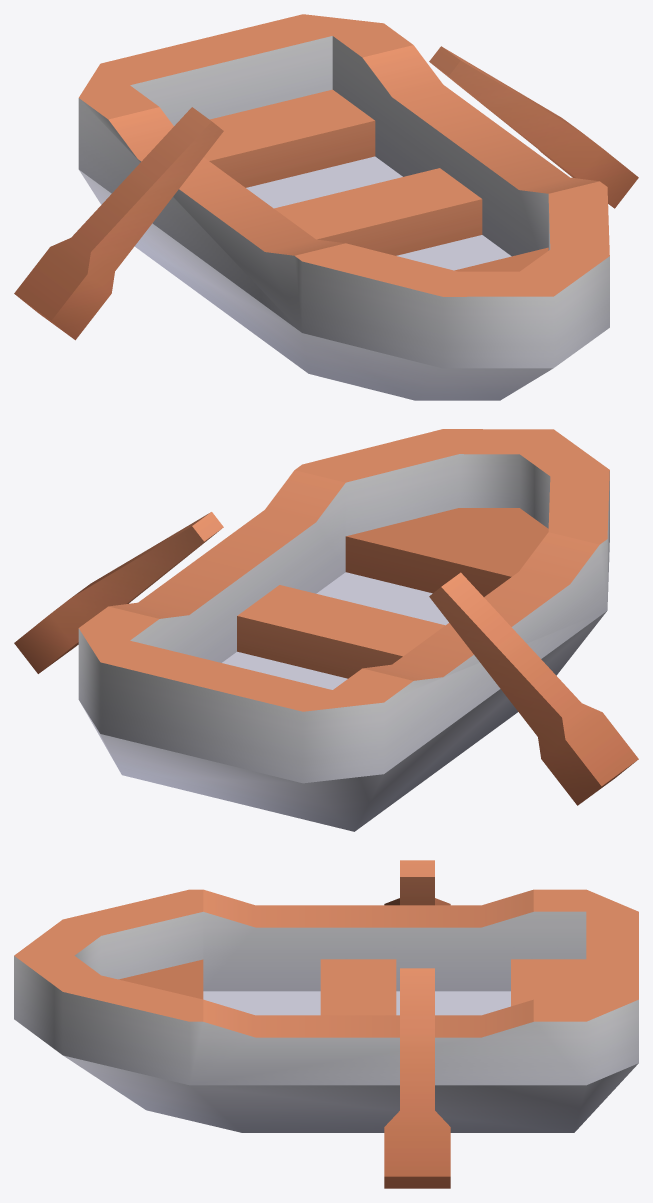
Rendered from boat-row-large.glb.
The picture shows the model from 3 angles, top to bottom: view 1: azimuth 30°, elevation 25°; view 2: azimuth 150°, elevation 25°; view 3: azimuth 270°, elevation 25°; orthographic projection. The views are drawn at different scales.
Visible parts, largest first — view 1: boat-row-large, paddles; view 2: boat-row-large, paddles; view 3: boat-row-large, paddles.
Part boxes in pixels (x1,y1,x2,y2): boat-row-large: (78, 14, 609, 400); paddles: (14, 46, 638, 340); boat-row-large: (78, 429, 609, 831); paddles: (14, 512, 638, 805); boat-row-large: (14, 889, 638, 1132); paddles: (384, 860, 450, 1188).
Bounding box in the file's own units: 2.75 × 0.8476 × 2.85.
1 material, 1 textured.
